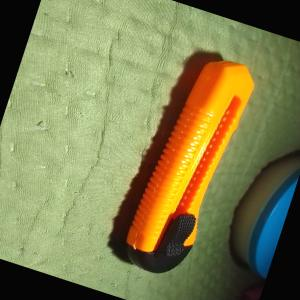estilete: (118, 46, 260, 284)
